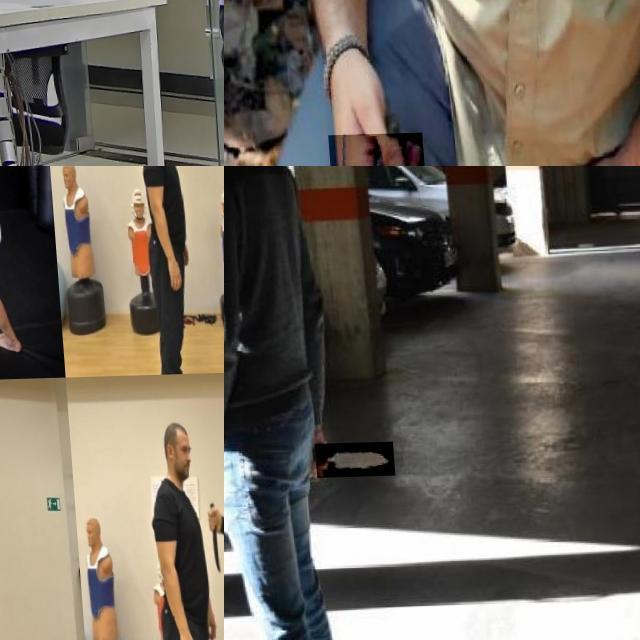-: (309, 443, 389, 479), (198, 502, 215, 578), (0, 568, 13, 632), (0, 243, 19, 276)
